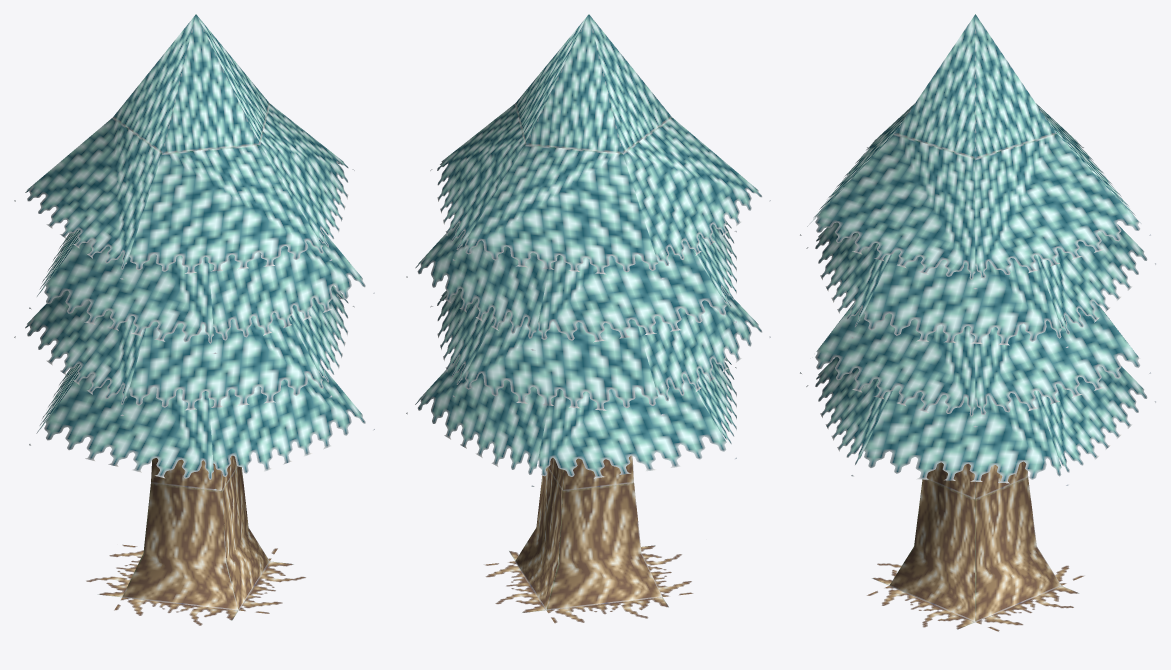
File: pine_Tree_lowPoly.fbx
The picture shows the model from 3 angles, left to right: view 1: azimuth 30°, elevation 25°; view 2: azimuth 150°, elevation 25°; view 3: azimuth 270°, elevation 25°; orthographic projection.
Visible parts, largest first — view 1: pine_Tree_lowPoly; view 2: pine_Tree_lowPoly; view 3: pine_Tree_lowPoly.
Part boxes in pixels (x1,y1,x2,y2): pine_Tree_lowPoly: [14, 14, 374, 625]; pine_Tree_lowPoly: [406, 14, 770, 623]; pine_Tree_lowPoly: [800, 14, 1155, 631].
Size of the model in its own units: 3.39 by 5.8 by 3.28.
